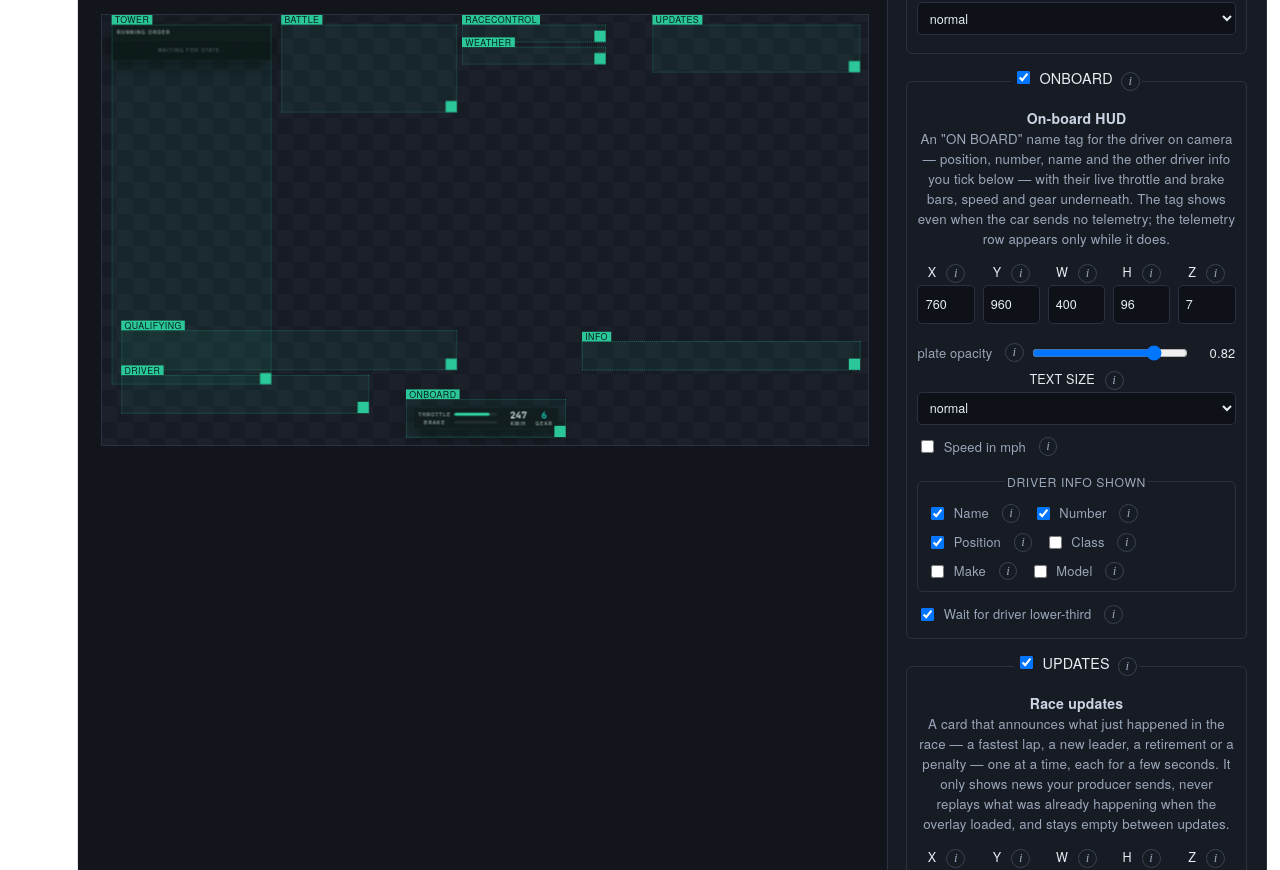
Test: ConfigPage editor wiring › toggling the onboard speed-unit checkbox switches the live preview km/h <-> mph
The image size is (1280, 870).
(page scrolled)
Expected: the text with test id "onboard-speed-unit" reads "KM/H", [510,420,526,427]
Expected: the element with test id "onboard-speed" shows "247", [510,409,526,421]
Click the checkbox with test id "speed-mph-onboard". click: (928, 447)
box: [922,440,934,453]
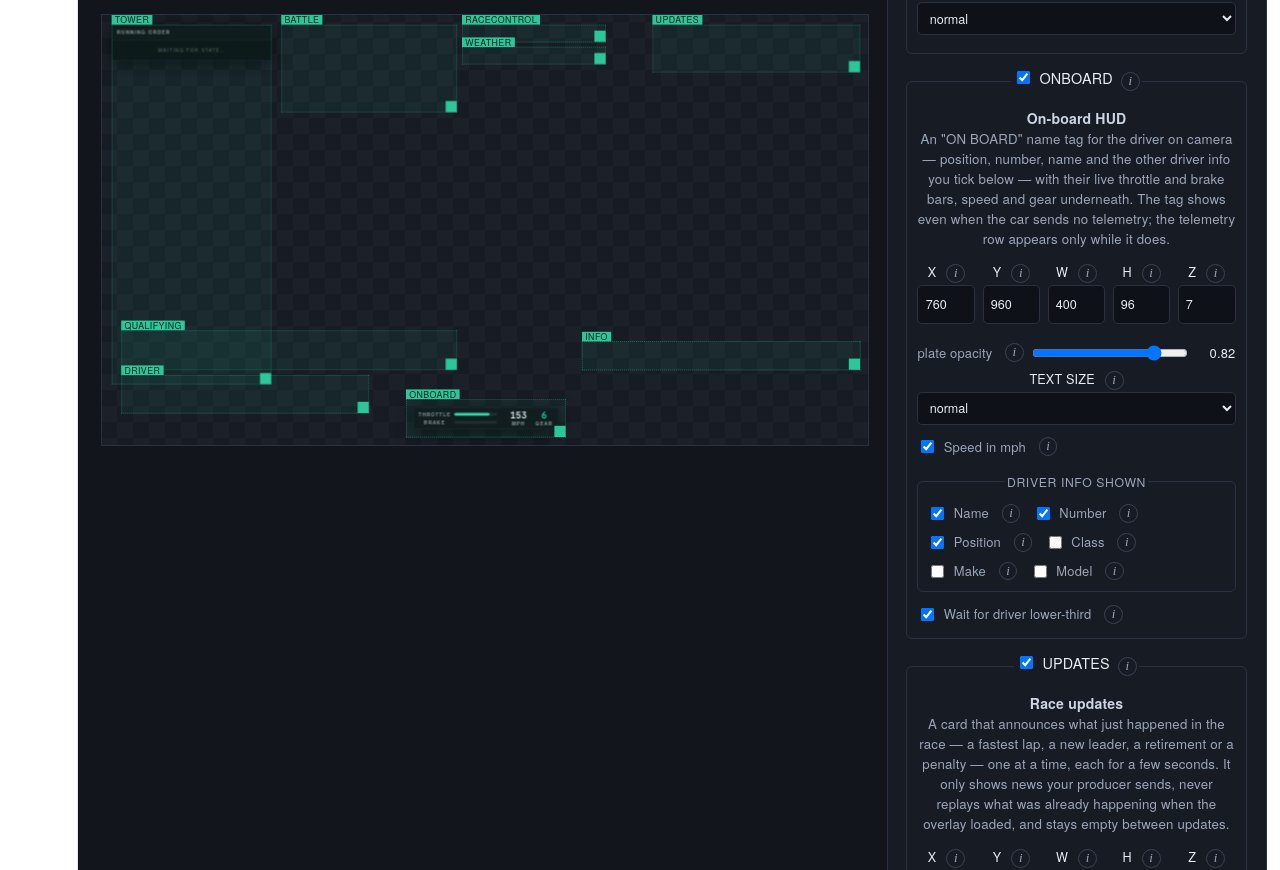
Result: the checkbox with test id "speed-mph-onboard" is checked
Result: the text with test id "onboard-speed-unit" reads "MPH" at [511,420,525,427]
Result: the element with test id "onboard-speed" shows "153" at [510,409,526,421]
Click the checkbox with test id "speed-mph-onboard". click: (928, 447)
box: [922,440,934,453]
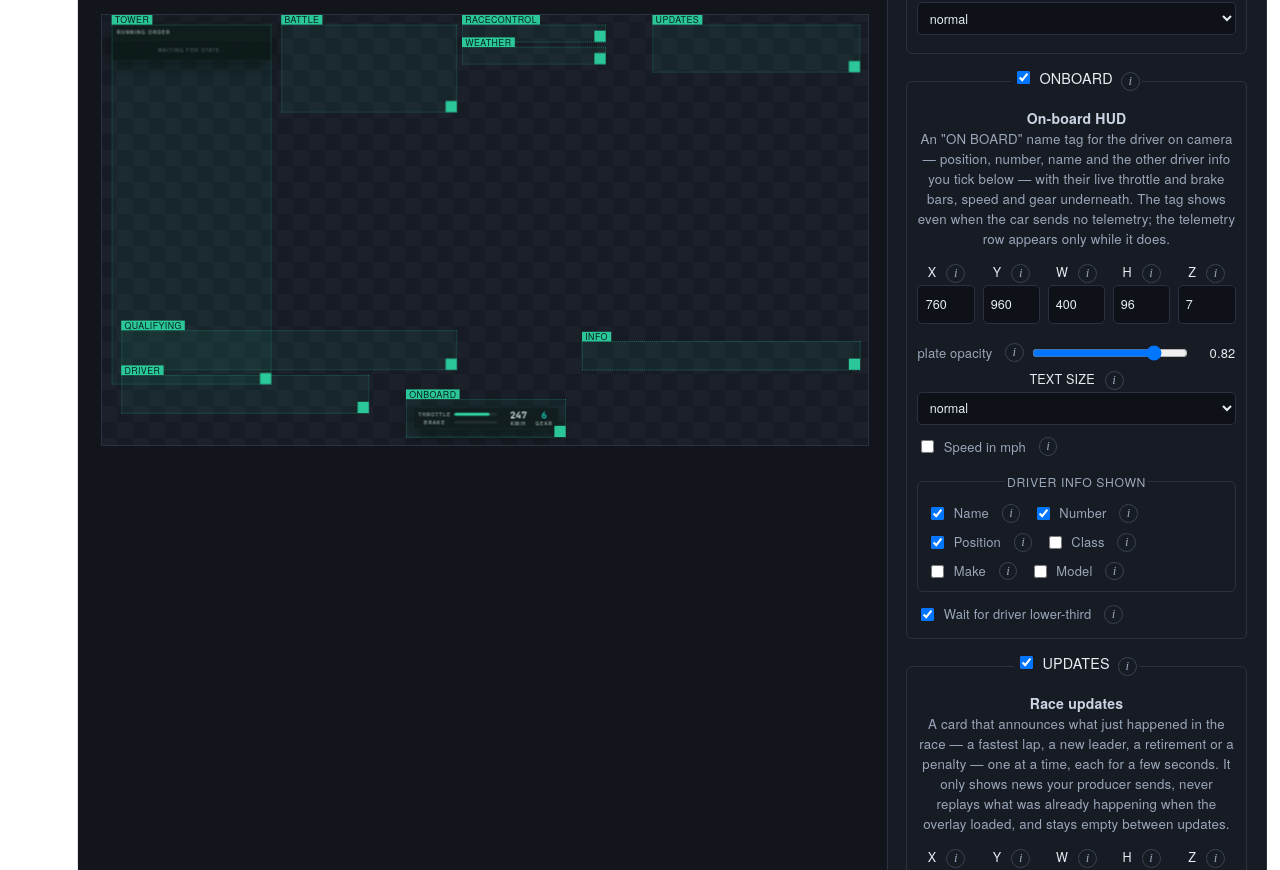
Result: the checkbox with test id "speed-mph-onboard" is not checked at [922,440,934,453]
Result: the text with test id "onboard-speed-unit" reads "KM/H" at [510,420,526,427]
